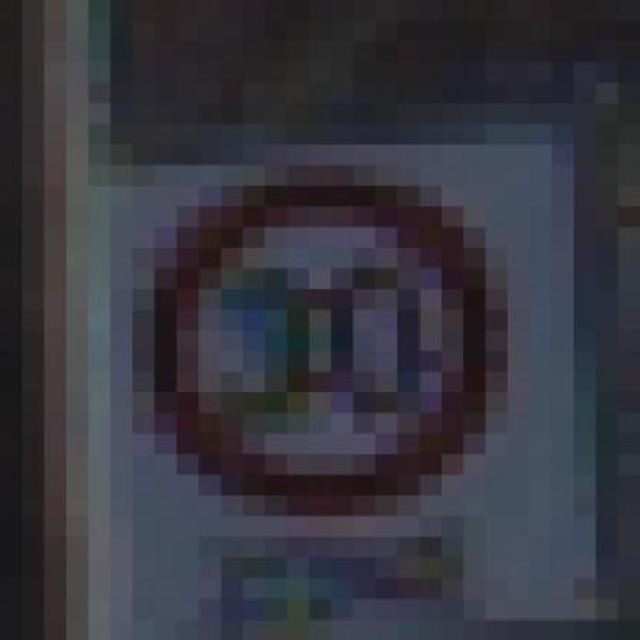Speed Limit 30 KMPh: (110, 145, 530, 537)
